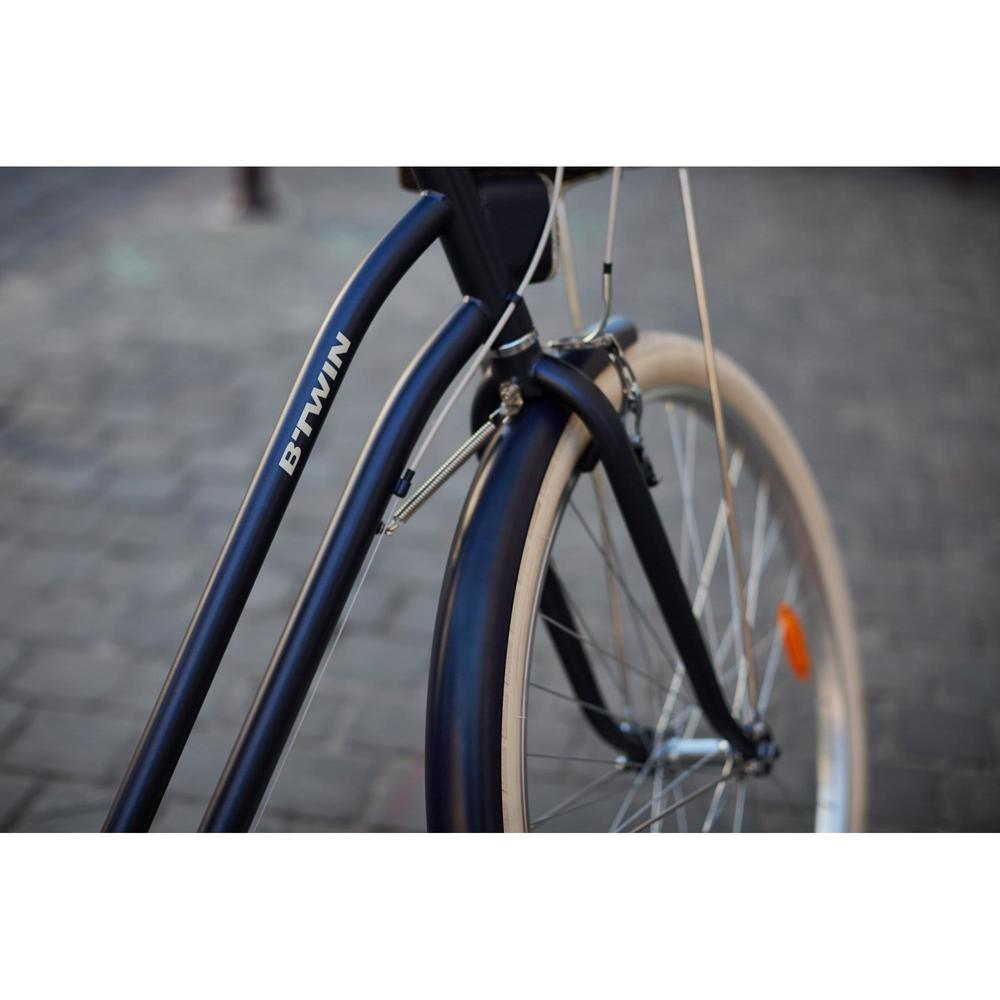UrbanBike: (63, 136, 912, 866)
